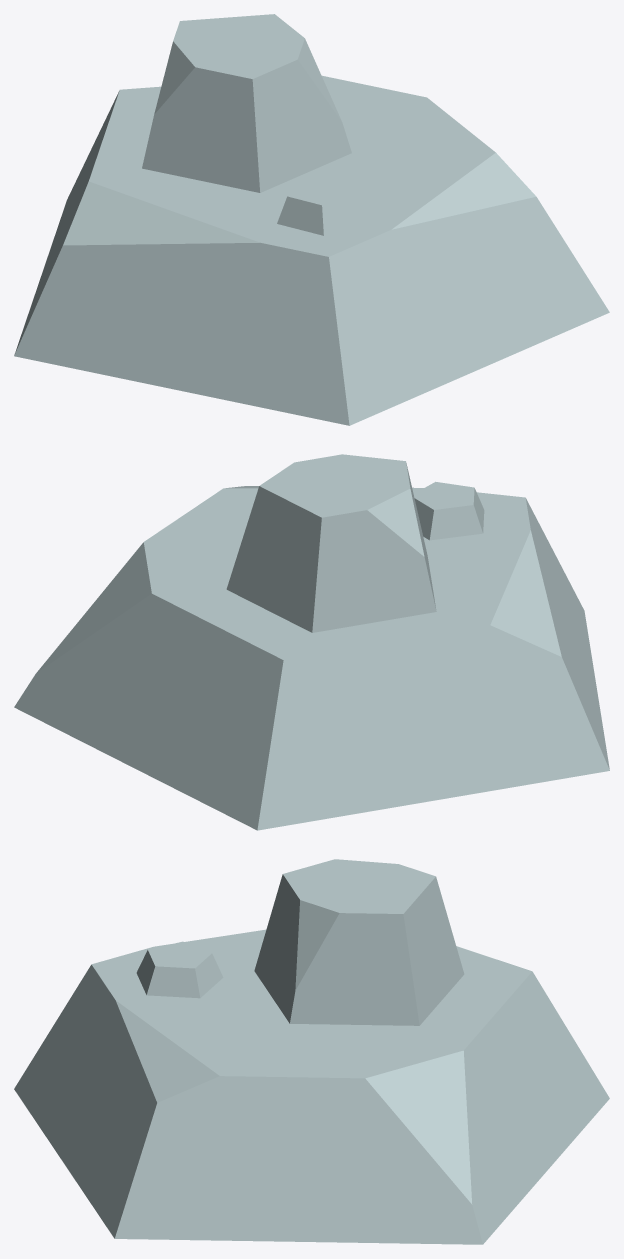
File: stone_smallTopB.glb
3 renders of one model, top to bottom at view 1: azimuth 30°, elevation 25°; view 2: azimuth 150°, elevation 25°; view 3: azimuth 270°, elevation 25°, orthographic. The views are drawn at different scales.
Visible parts, largest first — view 1: stone_smallTopB; view 2: stone_smallTopB; view 3: stone_smallTopB.
Part boxes in pixels (left/top/right/bottom): stone_smallTopB: left=14, top=14, right=609, bottom=425; stone_smallTopB: left=14, top=454, right=609, bottom=830; stone_smallTopB: left=14, top=859, right=609, bottom=1244.
Size of the model in its own units: 0.6221 by 0.28 by 0.6463.
